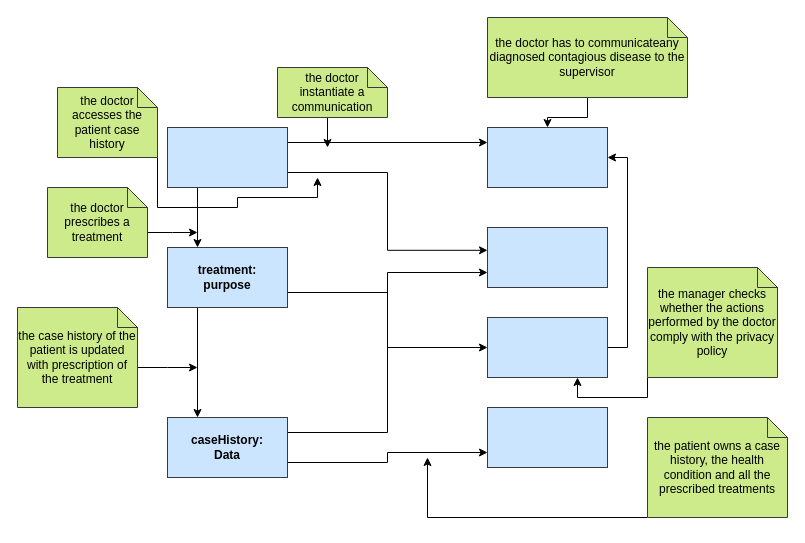
Some shapes in this 805 by 543 pixel diagram are drawn without their labels. Here are the shapes that lost their labels. From the top down, the centre of each, then its label:
At point (227, 157): "doctor: Processor".
At point (547, 157): "communication: Obligation".
At point (547, 257): "access: processing".
At point (547, 347): "manager: controller".
At point (547, 437): "patient: Subject".
